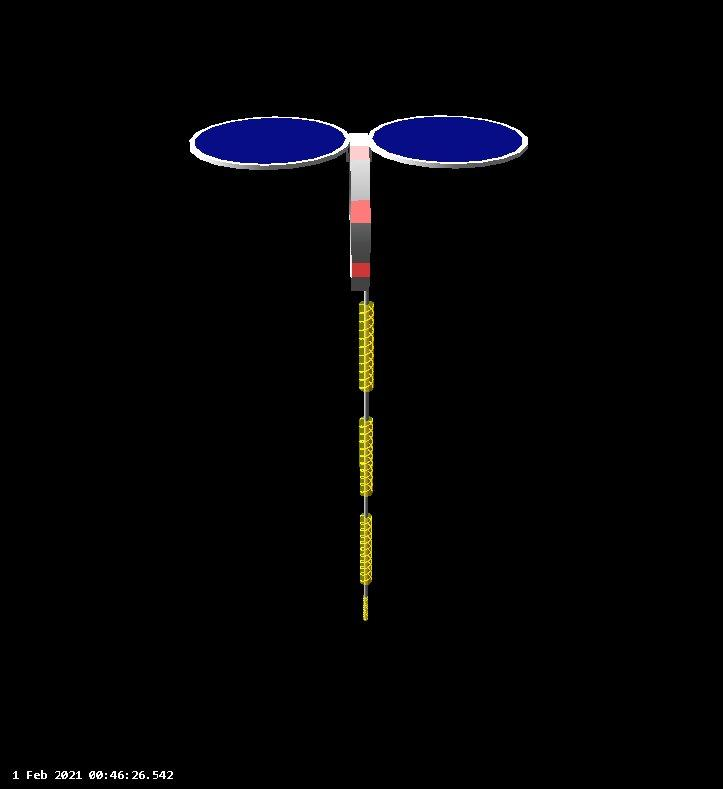antenna: (357, 285, 376, 630)
body: (344, 127, 376, 296)
solar: (188, 108, 347, 180), (369, 115, 533, 174)
